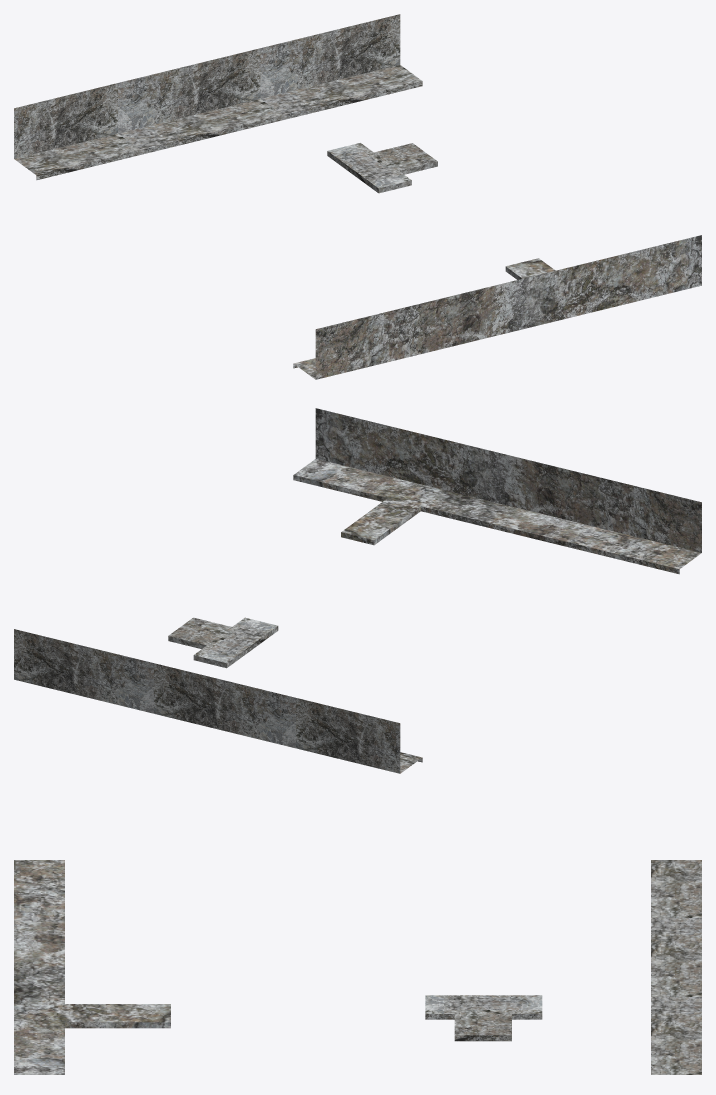
3 views of the same model, one above another, from view 1: azimuth 30°, elevation 25°; view 2: azimuth 150°, elevation 25°; view 3: azimuth 270°, elevation 25° (orthographic). The views are drawn at different scales.
Parts seen in each view (by area): view 1: Plane.001_Plane.001; view 2: Plane.001_Plane.001; view 3: Plane.001_Plane.001.
Boxes of the visible parts, x1,y1,x2,y2 form: Plane.001_Plane.001: (14, 14, 701, 379); Plane.001_Plane.001: (14, 408, 701, 773); Plane.001_Plane.001: (14, 860, 701, 1074).
Size of the model in its own units: 39.9 by 5.5 by 54.
